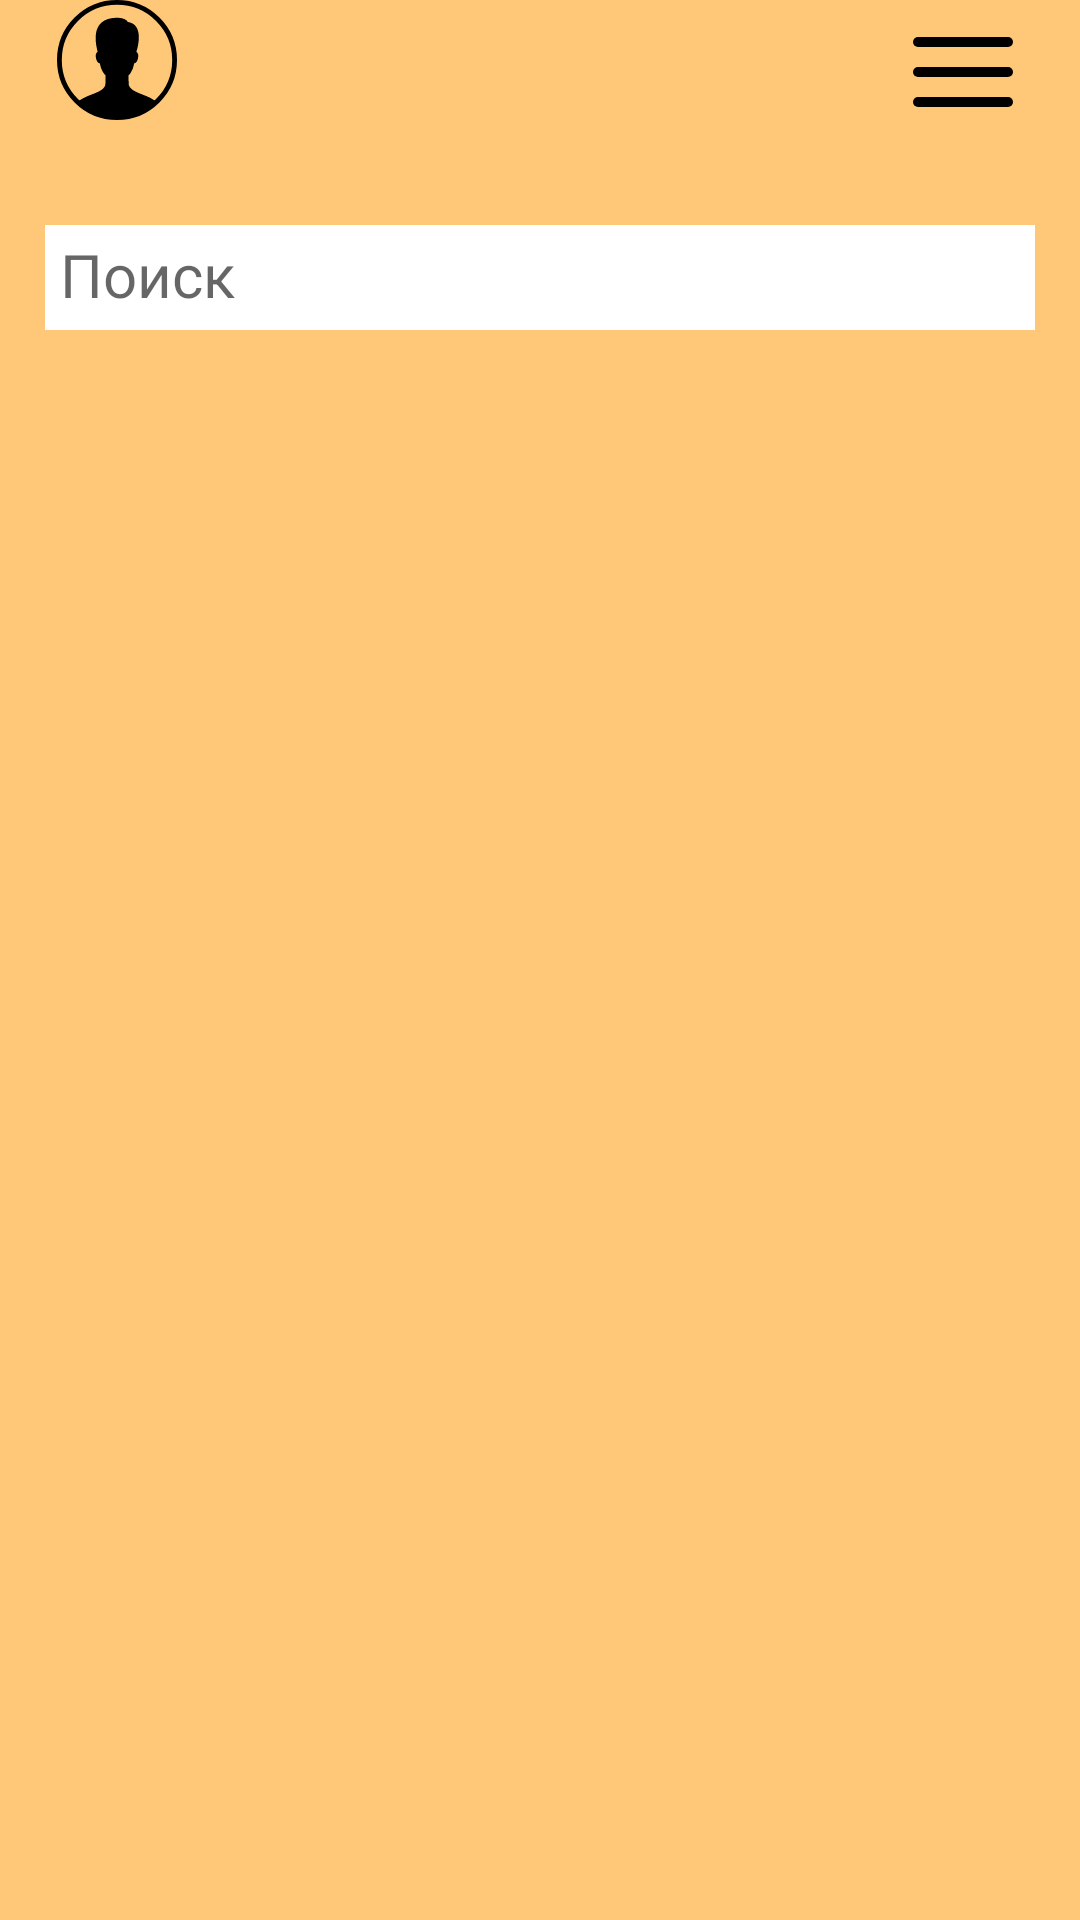

Icons on this 1080x1920 Android screen, each with the point to tap as (x,y):
menu: (963,72)
profile: (117,60)
